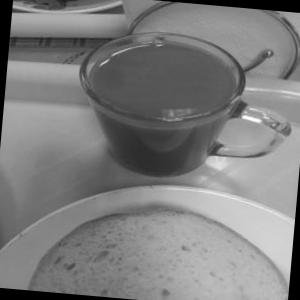coffee: (62, 10, 300, 201)
